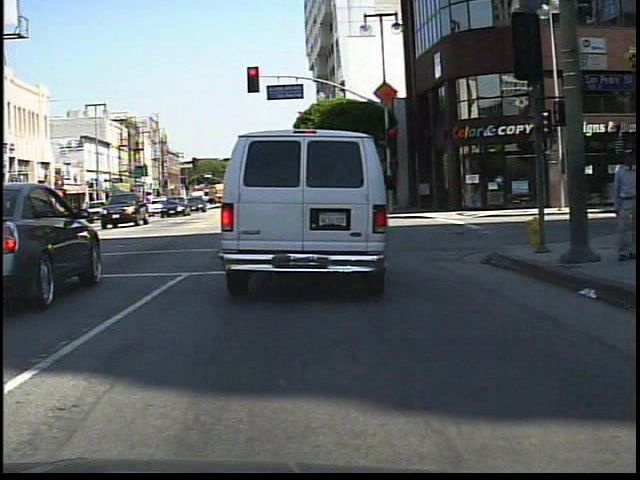person: (607, 146, 638, 266)
